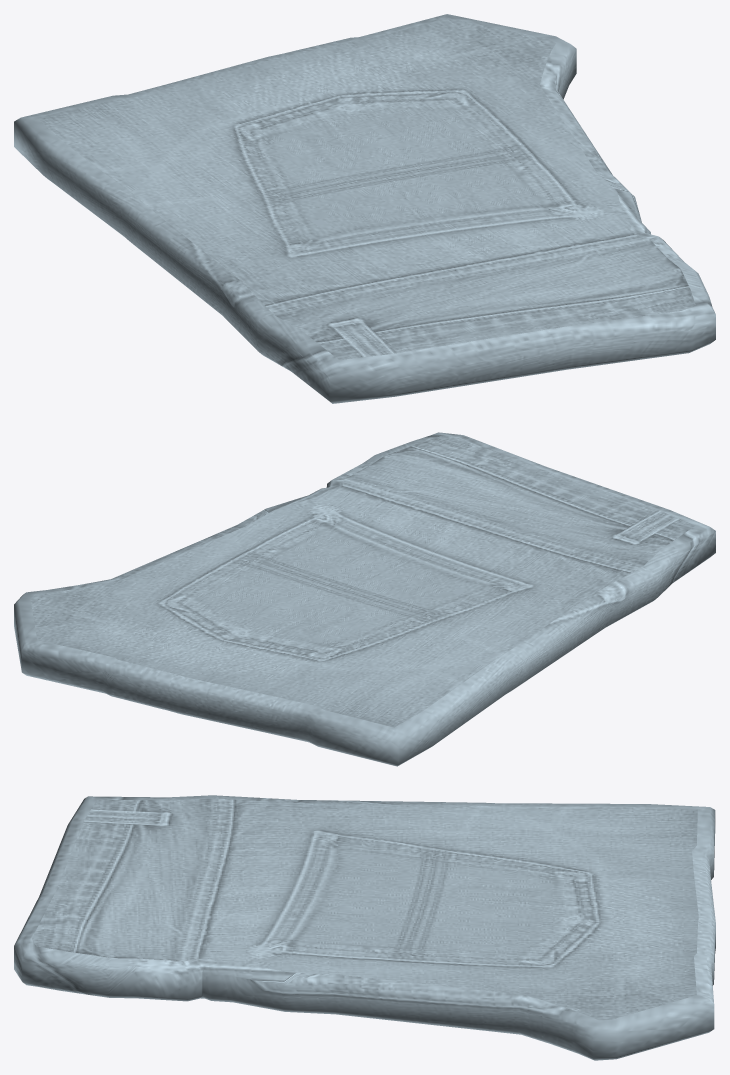
Rendered from jean-doblado.glb.
The picture shows the model from 3 angles, top to bottom: view 1: azimuth 30°, elevation 25°; view 2: azimuth 150°, elevation 25°; view 3: azimuth 270°, elevation 25°; orthographic projection. The views are drawn at different scales.
Parts seen in each view (by area): view 1: JEAN_DOBLADO_WEB; view 2: JEAN_DOBLADO_WEB; view 3: JEAN_DOBLADO_WEB.
Part boxes in pixels (left/top/right/bottom): JEAN_DOBLADO_WEB: left=14, top=14, right=715, bottom=403; JEAN_DOBLADO_WEB: left=14, top=432, right=715, bottom=766; JEAN_DOBLADO_WEB: left=14, top=795, right=715, bottom=1060.
Bounding box in the file's own units: 0.4394 × 0.0317 × 0.55.
Materials: 1 (1 with a texture image).
